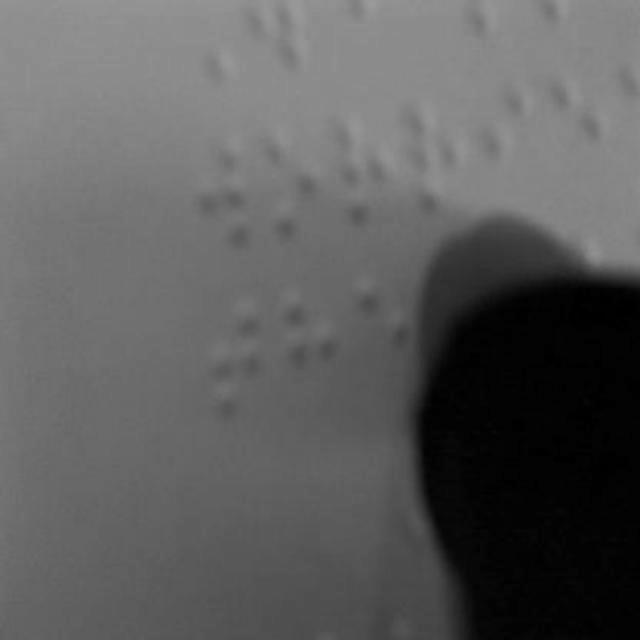braiile: (256, 113, 328, 257), (348, 268, 420, 409), (401, 88, 473, 222), (275, 284, 341, 428), (332, 102, 398, 242), (203, 286, 267, 430), (192, 122, 258, 258), (548, 71, 612, 209), (474, 84, 536, 212)
